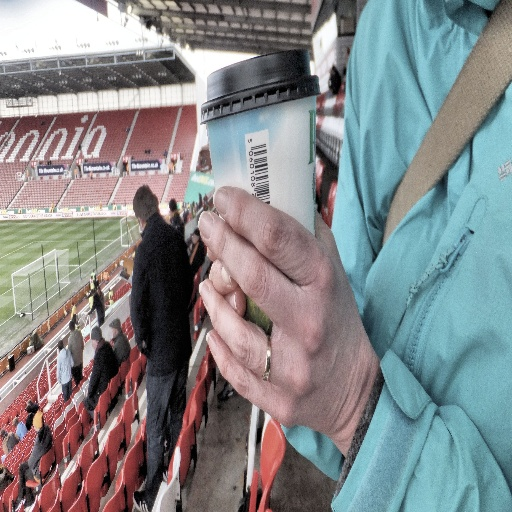hand: (182, 176, 384, 469), (207, 216, 248, 317)
